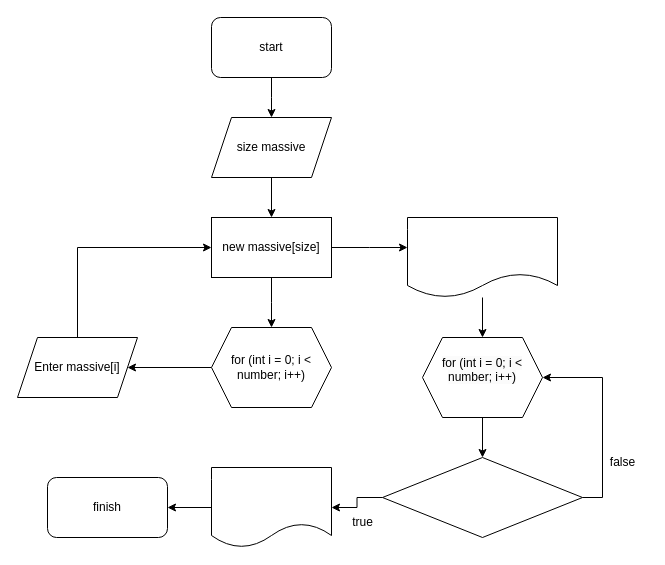
Some shapes in this 665 by 565 pixel diagram are drawn without their labels. Here are the shapes that lost their labels. From the top down, the box of each, then its label:
(406, 216, 558, 298): Console.Write(String.Join(", ", massive))
(210, 466, 332, 548): Console.Write($"{massive[i]} ")
(382, 456, 582, 538): if (massive[i].Length <= 3)
